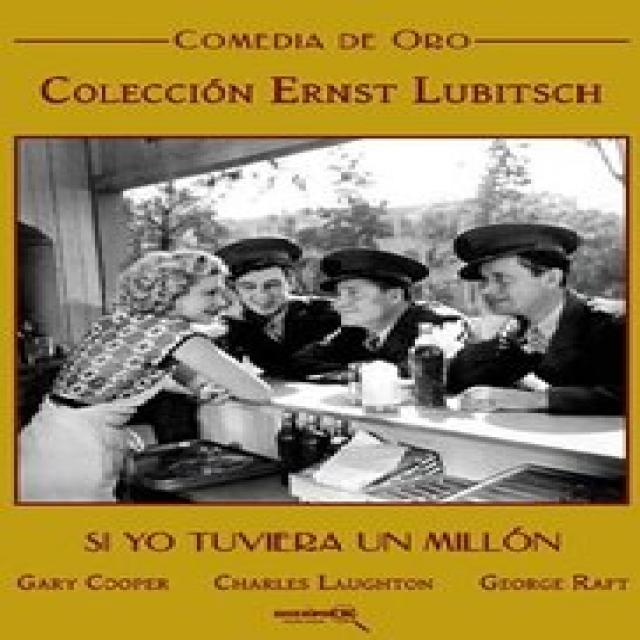movie-judul: (72, 522, 576, 560)
picture: (20, 137, 628, 507)
